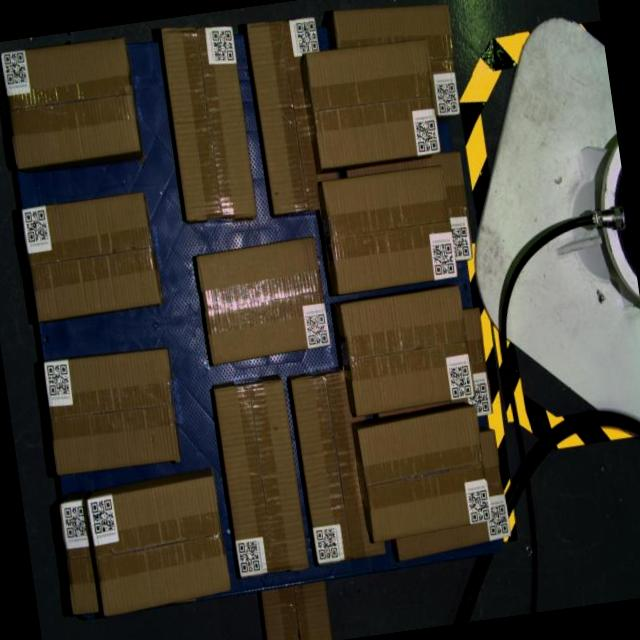box: (86, 475, 233, 617), (160, 19, 260, 225), (42, 344, 184, 480), (214, 379, 310, 578), (0, 35, 141, 169), (21, 190, 164, 322), (357, 406, 494, 542), (306, 37, 442, 170), (340, 286, 476, 417), (322, 165, 458, 295), (196, 237, 332, 366)
